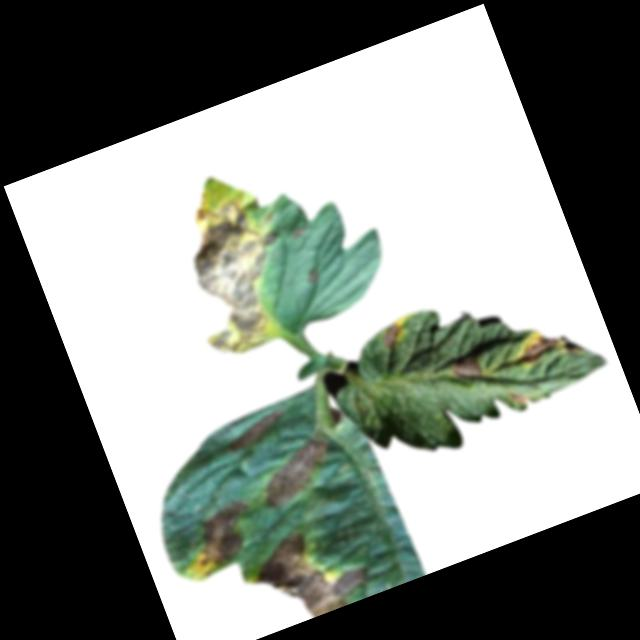Early_blight: (161, 186, 311, 363), (243, 515, 373, 632), (247, 432, 342, 515), (181, 498, 265, 577), (216, 404, 295, 459), (512, 326, 562, 370), (451, 354, 485, 387), (378, 321, 408, 352), (504, 384, 531, 412), (304, 265, 324, 286)
